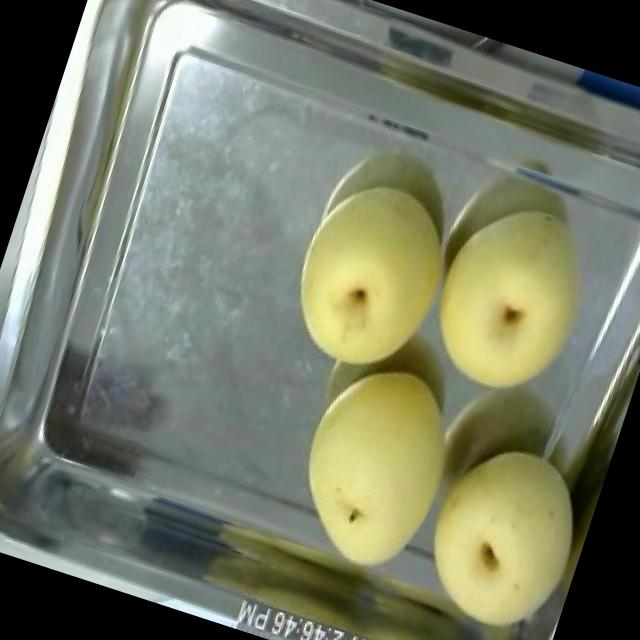Fruit: (266, 340, 485, 600), (401, 177, 623, 426), (264, 158, 476, 398), (387, 415, 609, 640)
